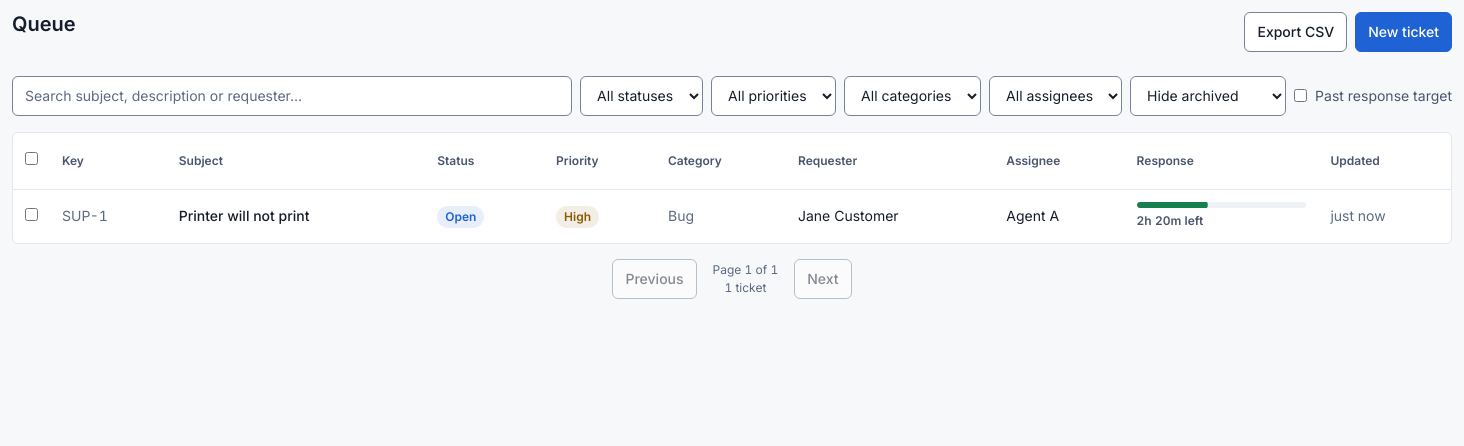
Scenario: QueuePage › supervisor-only controls › shows the bulk action bar once a ticket is selected, and not before
Expected: the link "Printer will not print" is shown, [179,207,310,224]
Expected: the text "selected" is not shown
Click the checkbox named "Select SUP-1" at (32, 215), box [25,208,38,221]
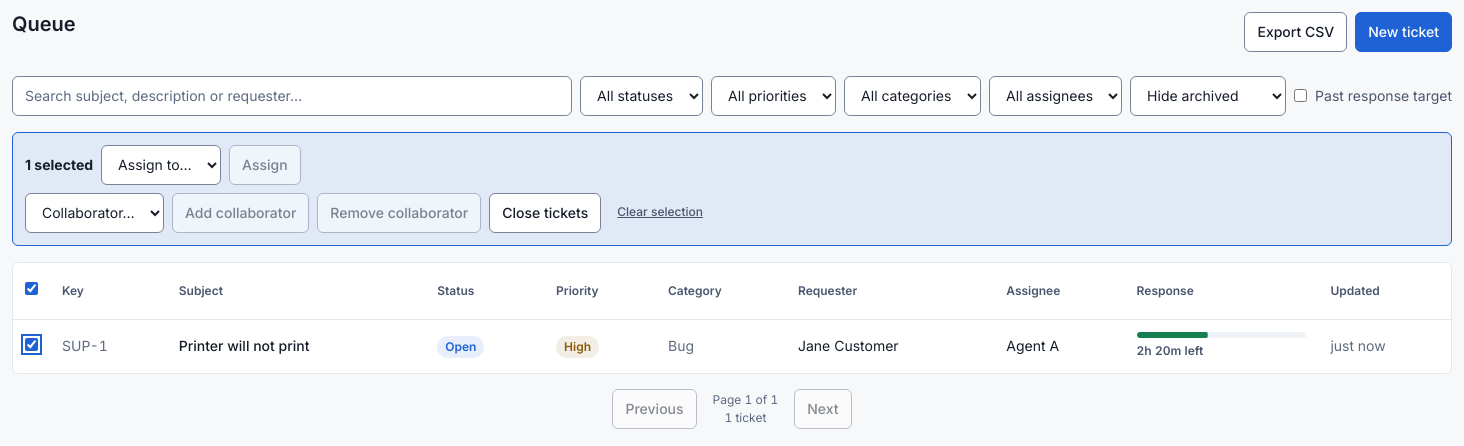
Now the text "1 selected" is shown, box [25,154,93,176]
